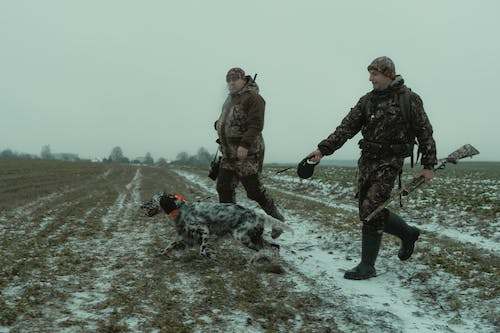gun: (363, 141, 482, 224), (206, 72, 258, 181)
